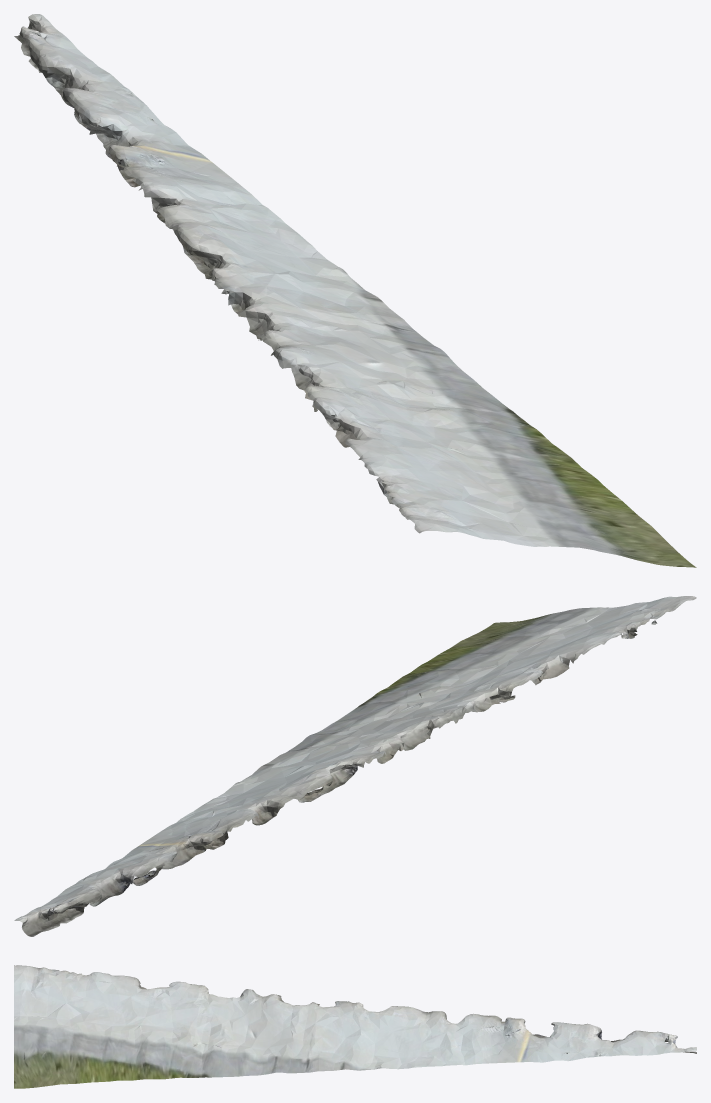
The picture shows the model from 3 angles, top to bottom: view 1: azimuth 30°, elevation 25°; view 2: azimuth 150°, elevation 25°; view 3: azimuth 270°, elevation 25°; orthographic projection. The views are drawn at different scales.
Size of the model in its own units: 1.23 by 0.4419 by 5.05.
1 material, 1 textured.
